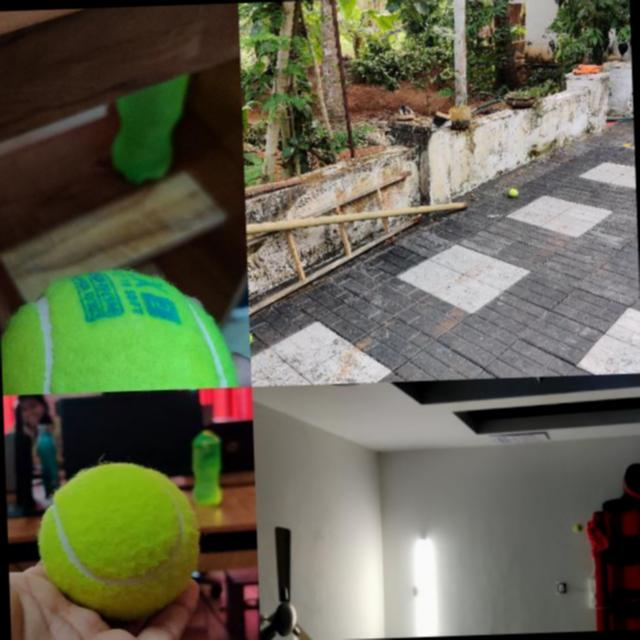tennis-ball: (0, 265, 235, 394), (35, 459, 200, 622), (508, 188, 518, 197), (572, 524, 582, 532)
